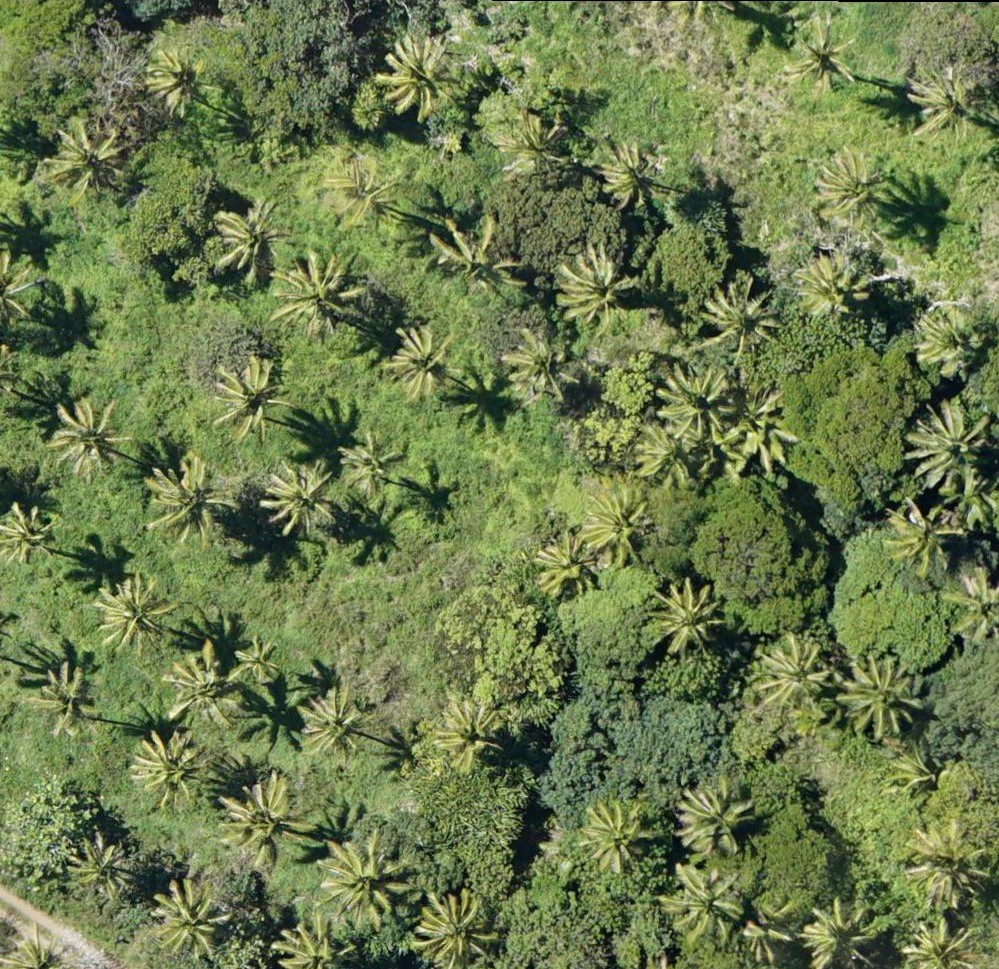Palm: (904, 399, 994, 497), (431, 215, 529, 297), (274, 244, 364, 333), (144, 451, 235, 539), (222, 773, 310, 863), (323, 833, 409, 924), (839, 653, 924, 739), (379, 32, 461, 119), (813, 142, 895, 226), (48, 391, 129, 476), (262, 458, 343, 543), (209, 357, 293, 437), (662, 864, 747, 942), (209, 202, 290, 283), (552, 248, 631, 330), (133, 728, 212, 808), (695, 280, 778, 356), (167, 642, 240, 728), (758, 627, 832, 711), (909, 825, 987, 904), (150, 879, 230, 956), (418, 890, 500, 963), (651, 571, 727, 649), (50, 120, 131, 193), (294, 685, 371, 761), (664, 360, 738, 439), (321, 151, 400, 225), (490, 109, 567, 184), (96, 574, 169, 653), (788, 13, 861, 91), (505, 328, 577, 407), (679, 777, 754, 852), (915, 304, 992, 377), (909, 62, 980, 141), (143, 42, 215, 117), (804, 896, 882, 965), (429, 694, 499, 770), (390, 323, 458, 398), (599, 139, 676, 205), (32, 666, 102, 738), (793, 253, 870, 318), (584, 494, 655, 564), (584, 798, 651, 870), (528, 532, 598, 598), (67, 839, 136, 904), (637, 416, 701, 485), (341, 433, 403, 493), (3, 501, 56, 560), (238, 637, 280, 682)
